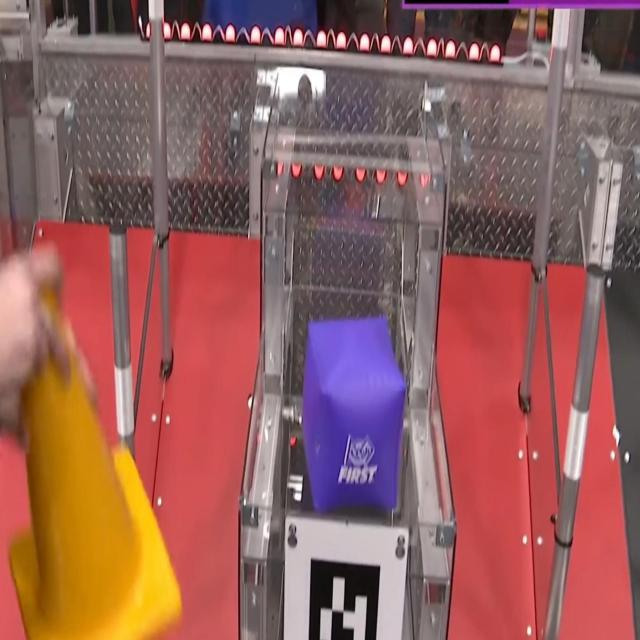frc_cone: (7, 275, 183, 640)
frc_cube: (305, 313, 408, 515)
